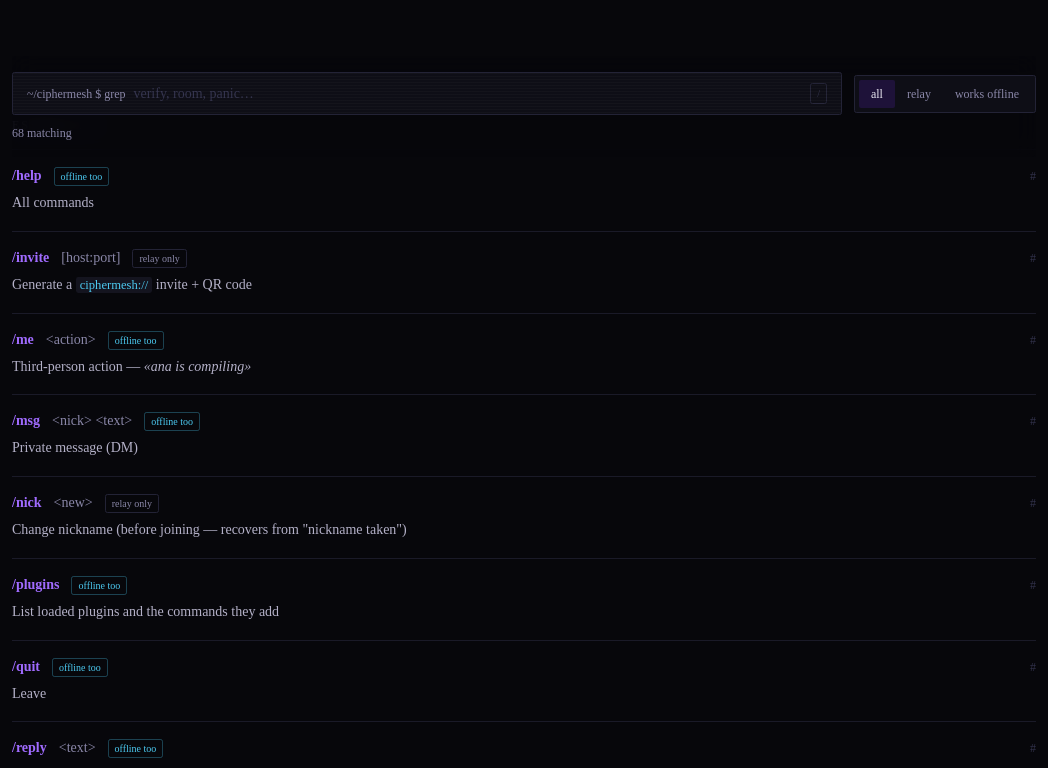
Test: CommandBrowser › says so plainly when nothing matches
Step 1. Type "zzzzz" into the search field → x=468, y=94, box [134,84,802,104]
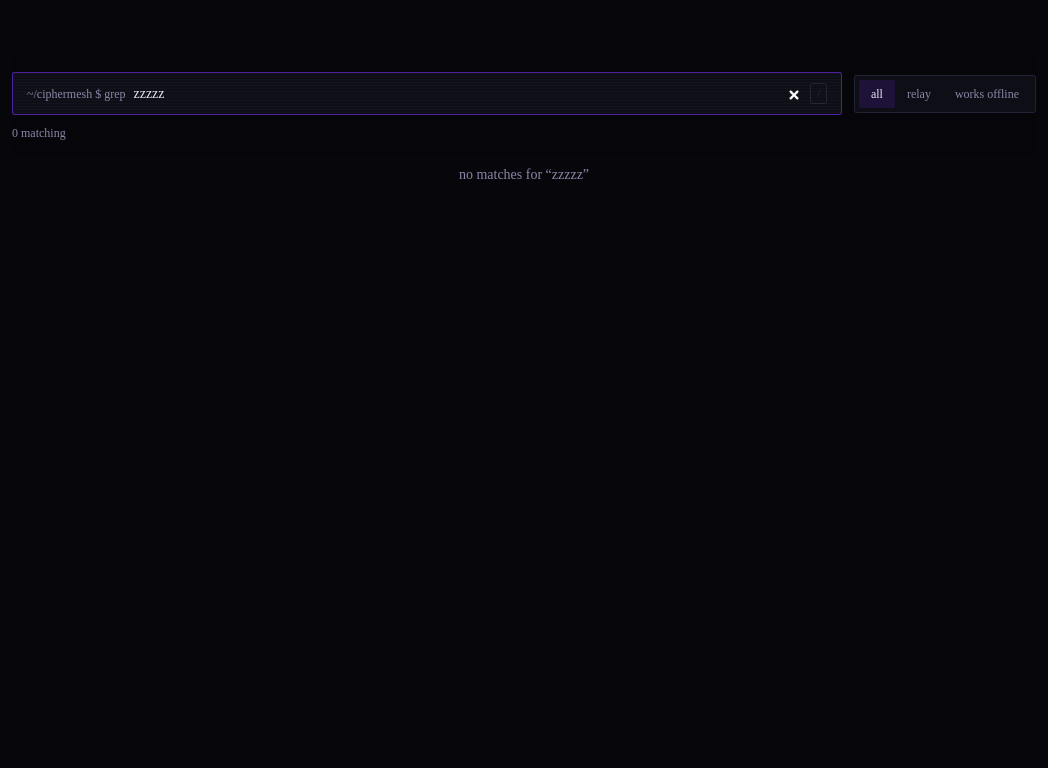
Now the text "no matches for “zzzzz”" is shown, box [459,167,589,182]
